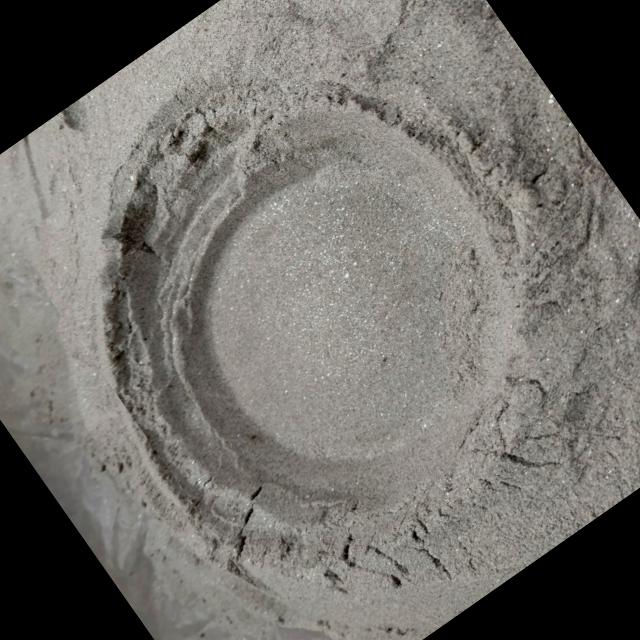C20: (108, 81, 515, 530)
